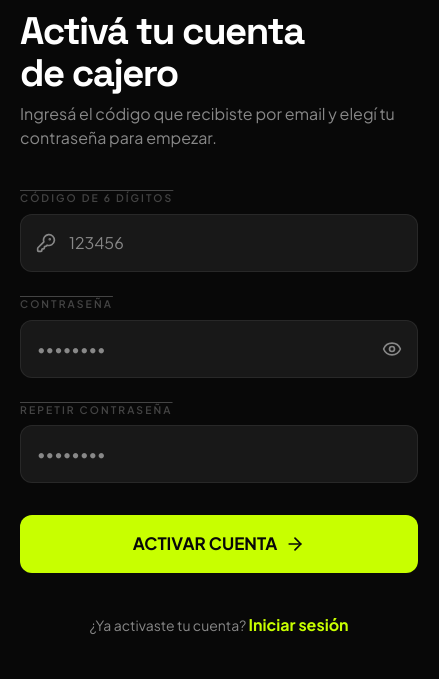
Test: ActivateCashierAccountView (LB-115) › blocks submission and shows a validation error when the token is not 6 digits
Type "123" into the field named "CÓDIGO DE 6 DÍGITOS" at x=219, y=243, box [20,214,418,272]
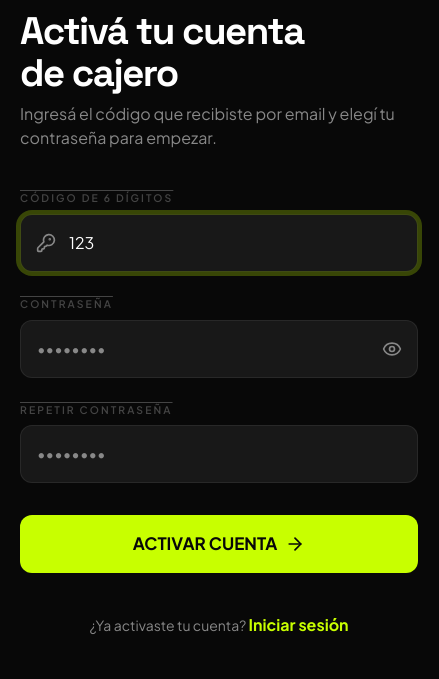
Type "newPassword123" into the password field named "CONTRASEÑA" at x=219, y=349, box [20,320,418,378]
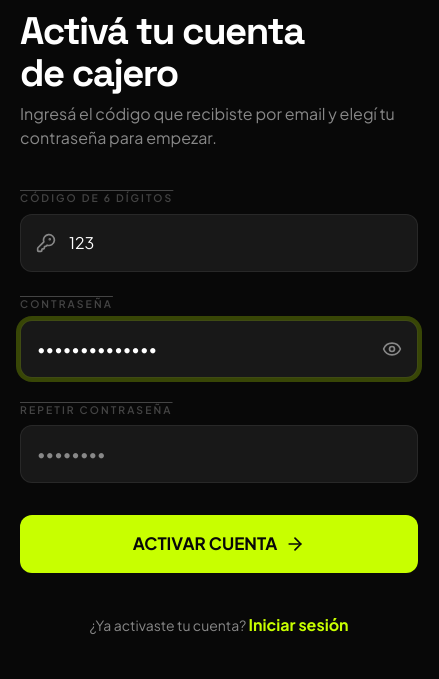
Type "newPassword123" into the password field named "REPETIR CONTRASEÑA" at x=219, y=454, box [20,425,418,483]
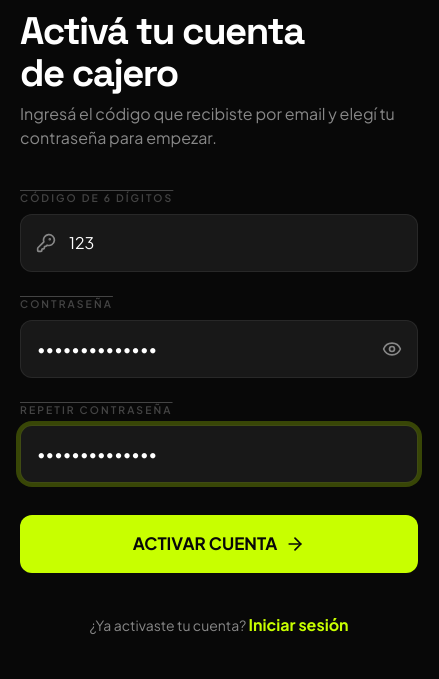
Click the button "ACTIVAR CUENTA" at x=219, y=544, box [20,515,418,573]
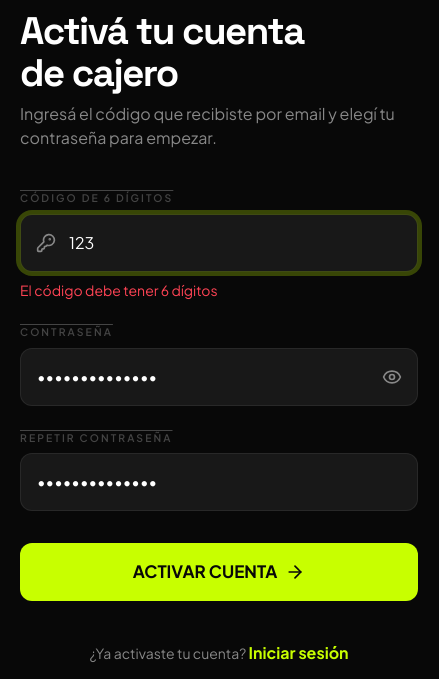
Expected: the text "El código debe tener 6 dígitos" is shown, [20,281,218,299]
